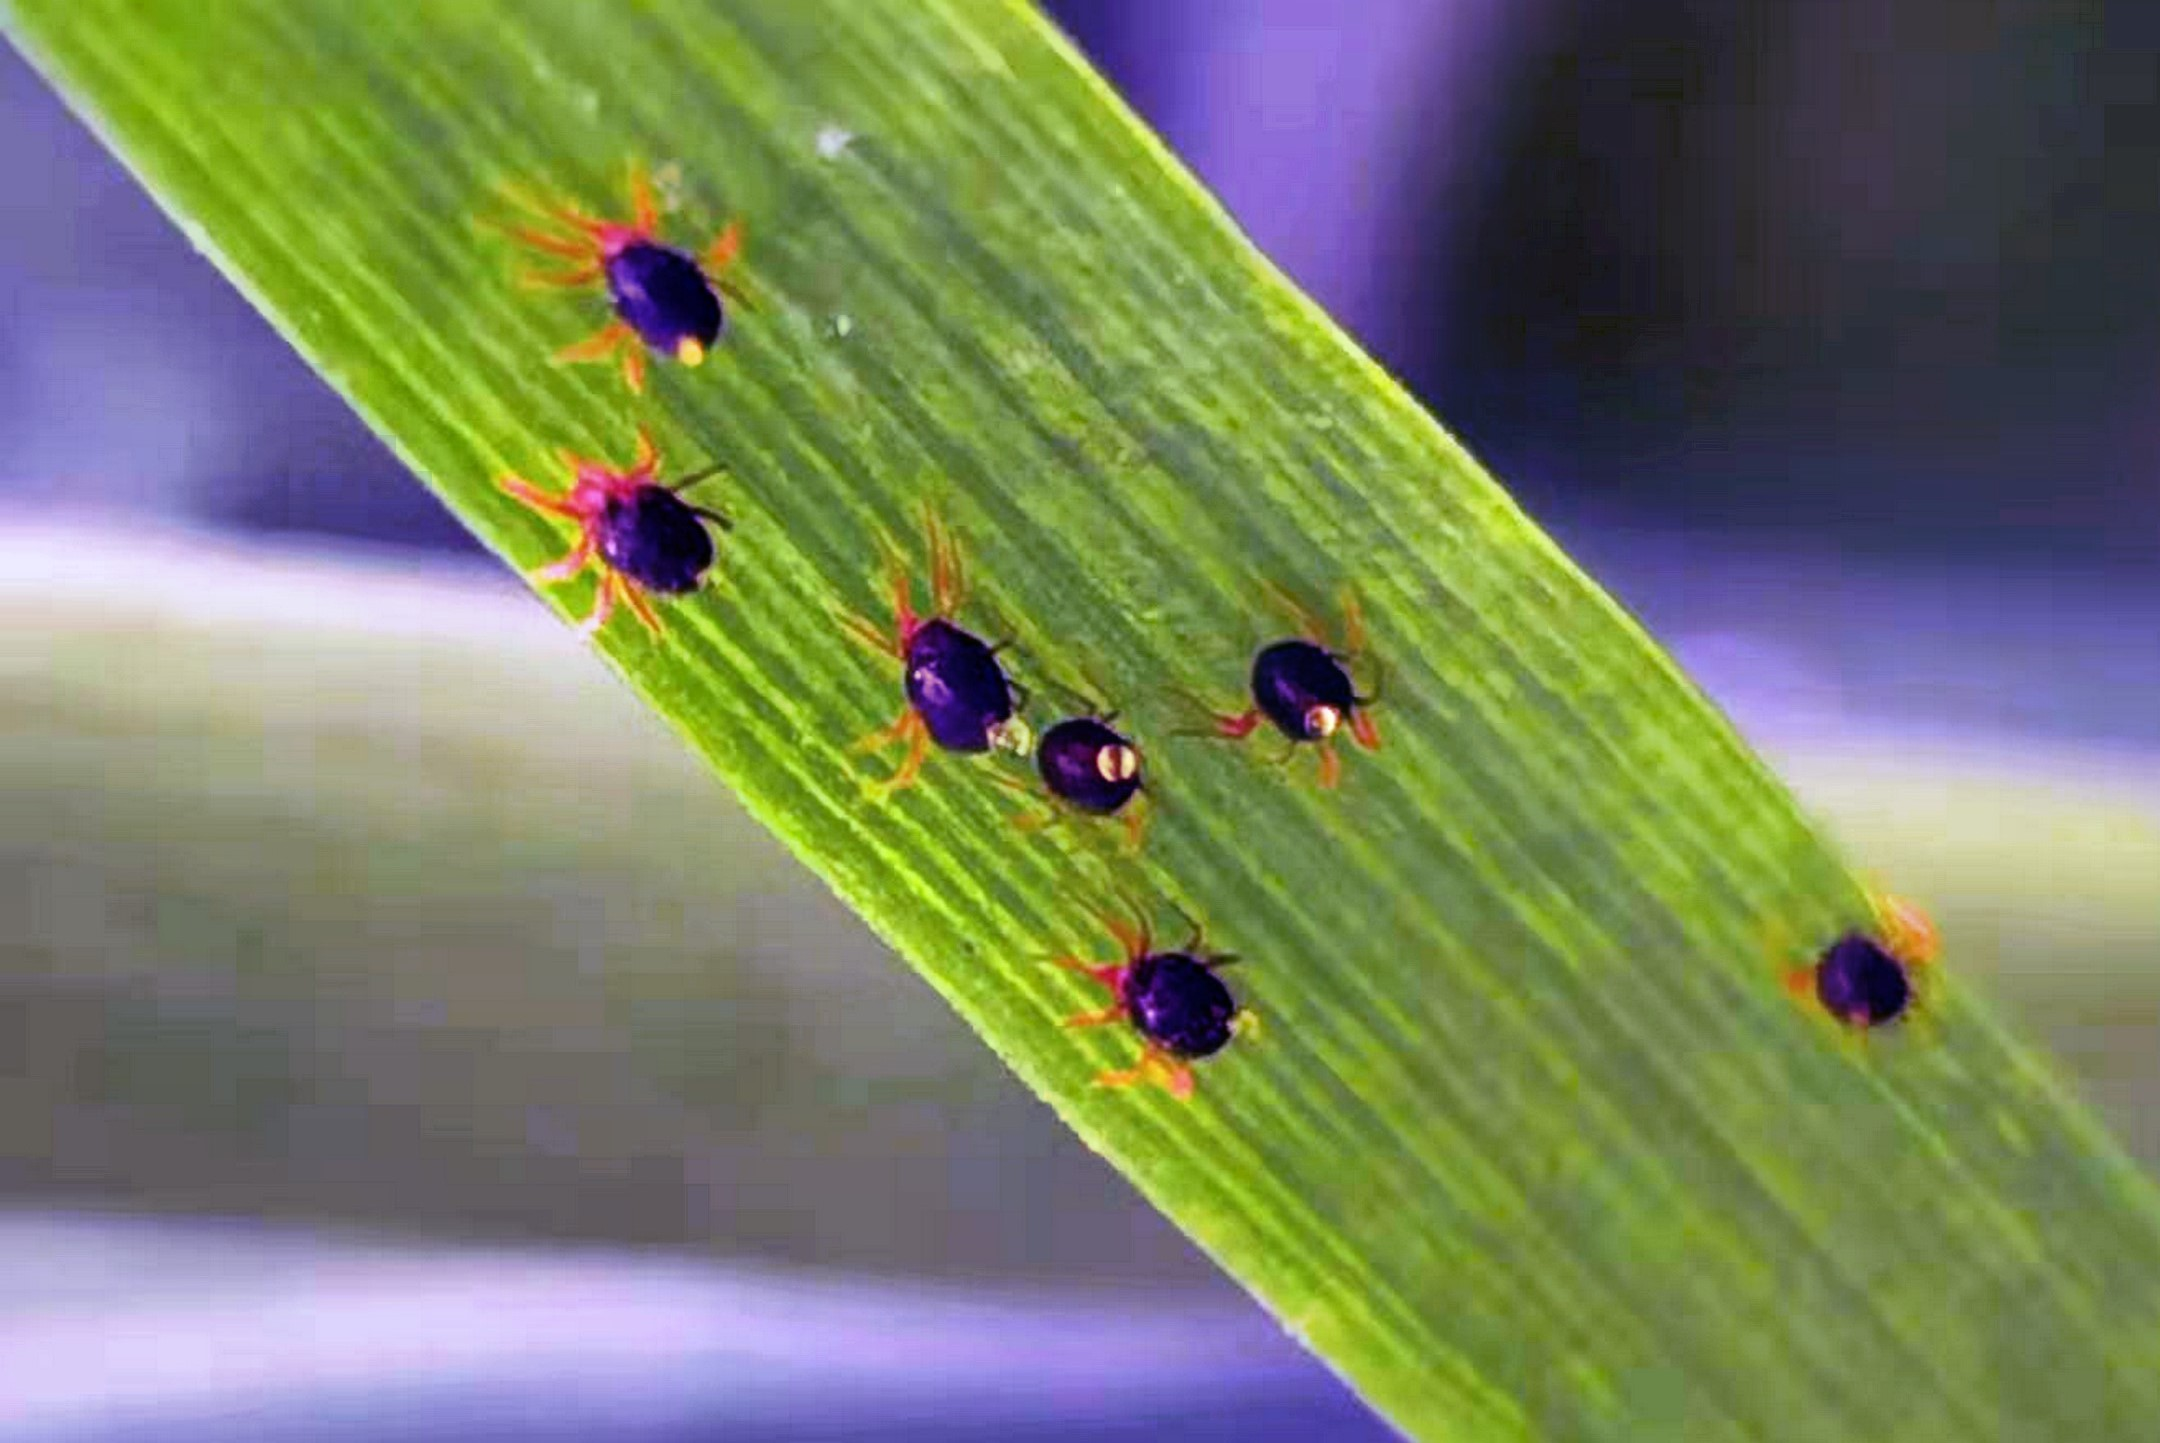Wheat Red Spider: (453, 159, 784, 689)
